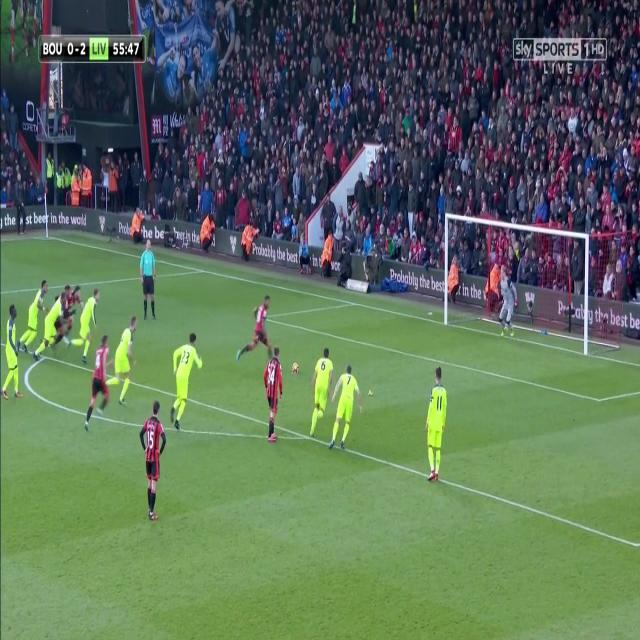Ball: (290, 358, 302, 379)
Goalkeeper: (494, 264, 519, 339)
Player: (169, 330, 206, 432), (140, 402, 168, 525), (423, 362, 449, 487), (233, 289, 275, 363), (107, 313, 139, 409), (328, 363, 362, 452), (82, 333, 111, 431), (67, 285, 101, 364), (15, 274, 48, 354), (307, 345, 334, 440), (2, 304, 26, 403), (261, 347, 285, 442), (33, 293, 67, 358), (65, 280, 88, 310)
Referee: (140, 238, 158, 322)
